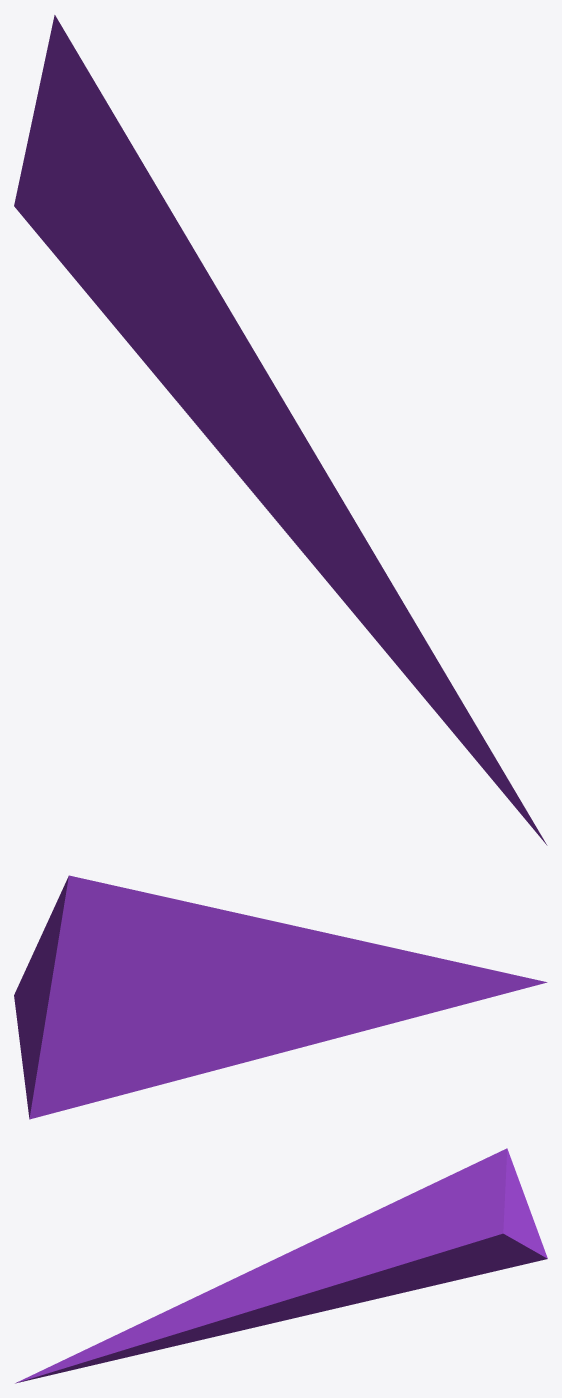
Rendered from Glass_77_5_chunks.fbx.
The picture shows the model from 3 angles, top to bottom: view 1: azimuth 30°, elevation 25°; view 2: azimuth 150°, elevation 25°; view 3: azimuth 270°, elevation 25°; orthographic projection. The views are drawn at different scales.
Parts seen in each view (by area): view 1: Glass_77_5_0; view 2: Glass_77_5_0; view 3: Glass_77_5_0.
Part boxes in pixels (left/top/right/bottom): Glass_77_5_0: left=14, top=15, right=547, bottom=845; Glass_77_5_0: left=14, top=875, right=547, bottom=1119; Glass_77_5_0: left=15, top=1148, right=547, bottom=1383.
Bounding box in the file's own units: 12.47 × 92.64 × 190.
